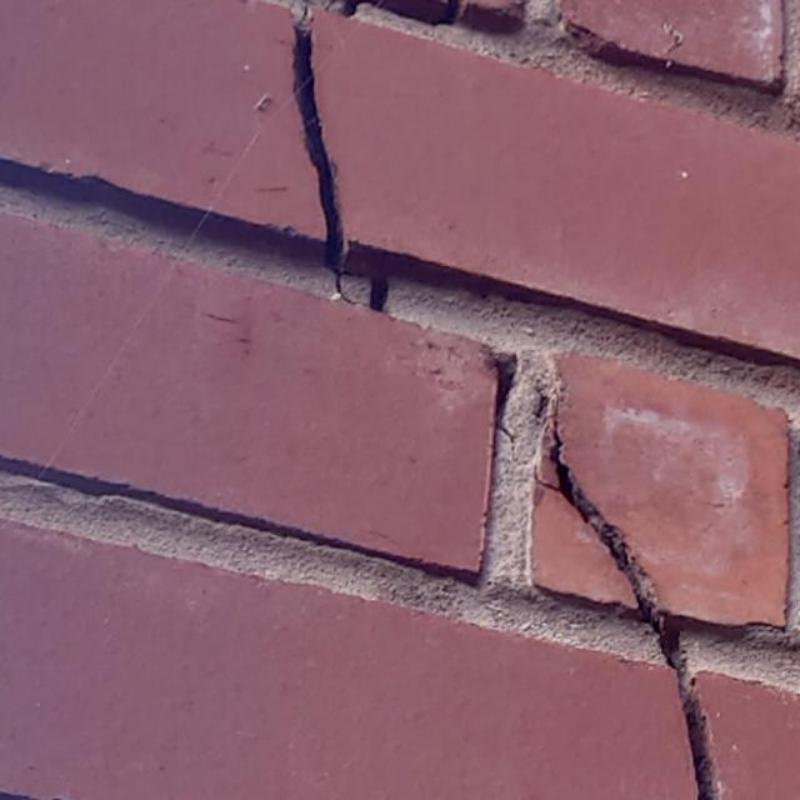pothole: (548, 390, 713, 799), (292, 2, 348, 298), (497, 353, 516, 430), (369, 273, 389, 312), (532, 462, 556, 492), (500, 428, 515, 453), (341, 1, 361, 17)
